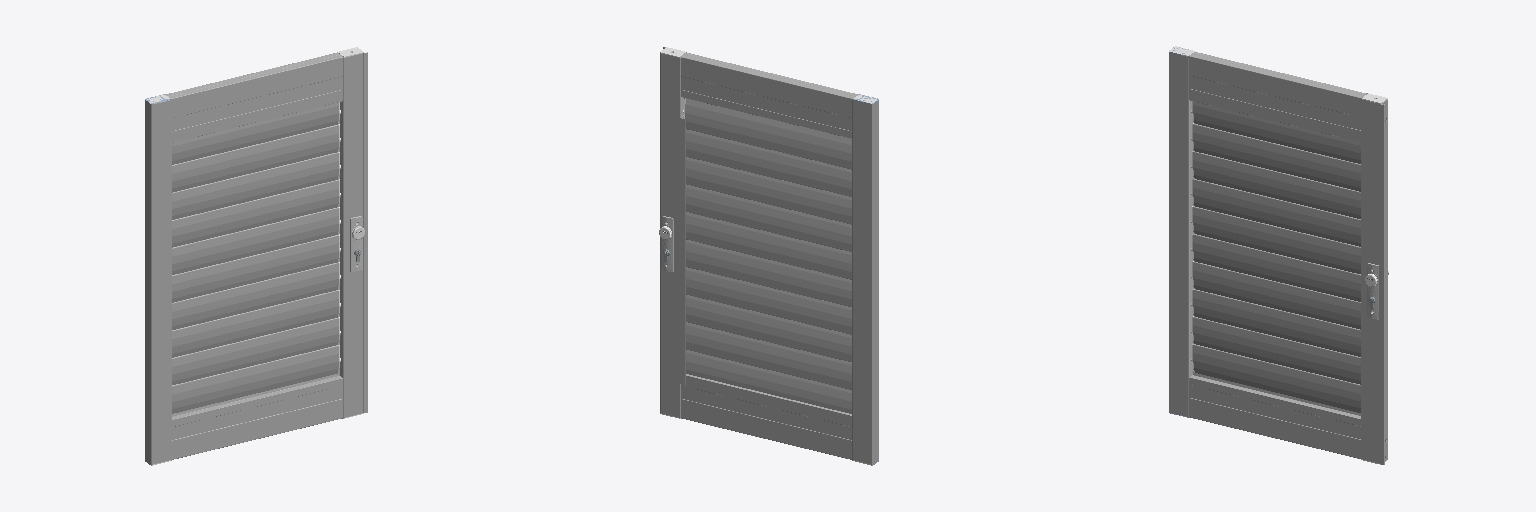
Rendered from Shutter.obj.
The picture shows the model from 3 angles: view 1: azimuth 30°, elevation 25°; view 2: azimuth 150°, elevation 25°; view 3: azimuth 330°, elevation 25°; orthographic projection.
Visible parts, largest first — view 1: ShutterGuard_Panel_.001; view 2: ShutterGuard_Panel_.001; view 3: ShutterGuard_Panel_.001.
Boxes of the visible parts, box(x1,y1,x2,y2) form: ShutterGuard_Panel_.001: box(145, 47, 367, 465); ShutterGuard_Panel_.001: box(659, 47, 878, 465); ShutterGuard_Panel_.001: box(1169, 46, 1388, 464).
Size of the model in its own units: 62.62 by 100 by 6.66.